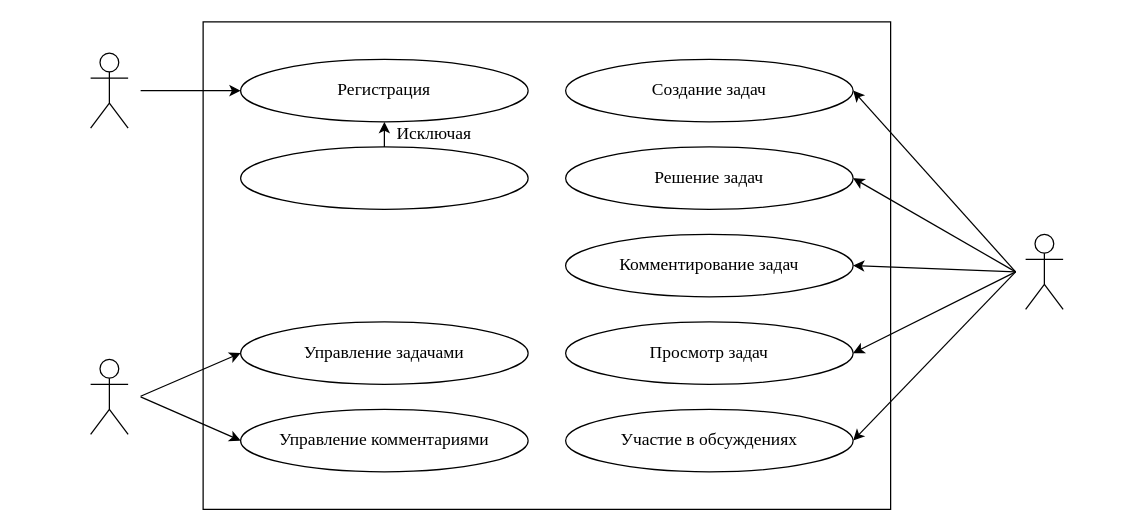
This 1138x531 diagram has some shape labels left out. The shapes that lost their labels are listed below. From the top down, each one's centre as x and y in pixels, then its label:
At point 108,90: "Незарегистрированный пользователь".
At point 383,177: "Неверный логин/пароль".
At point 1043,271: "Авторизированный пользователь".
At point 108,396: "Администратор".
